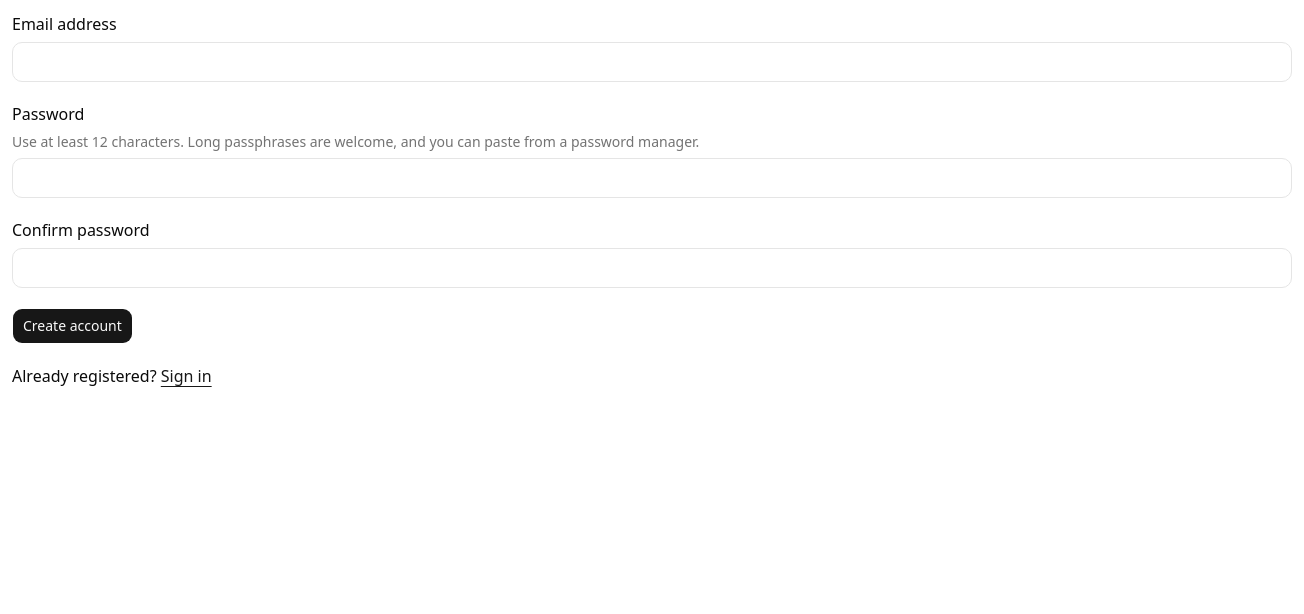
Test case: RegisterForm › moves focus to the error summary and links field errors
The width and height of the screenshot is (1304, 614).
Click the button "Create account". click: (72, 326)
box: [12,308,133,344]
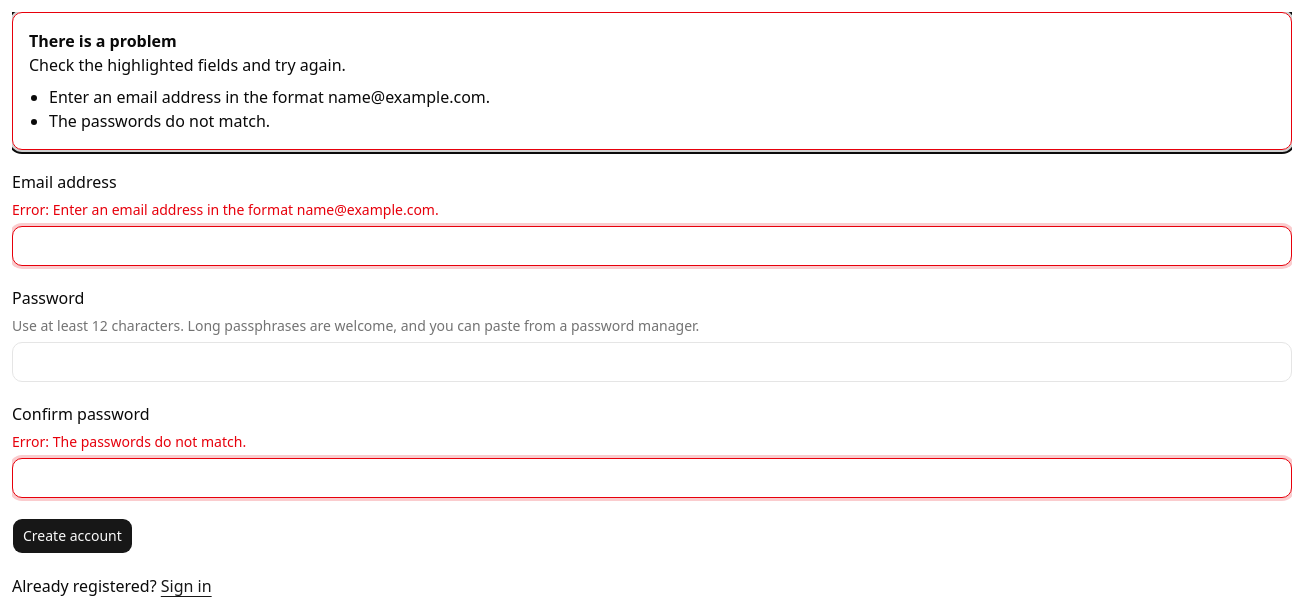
Expected: the message shows "There is a problem", [29,30,177,52]
